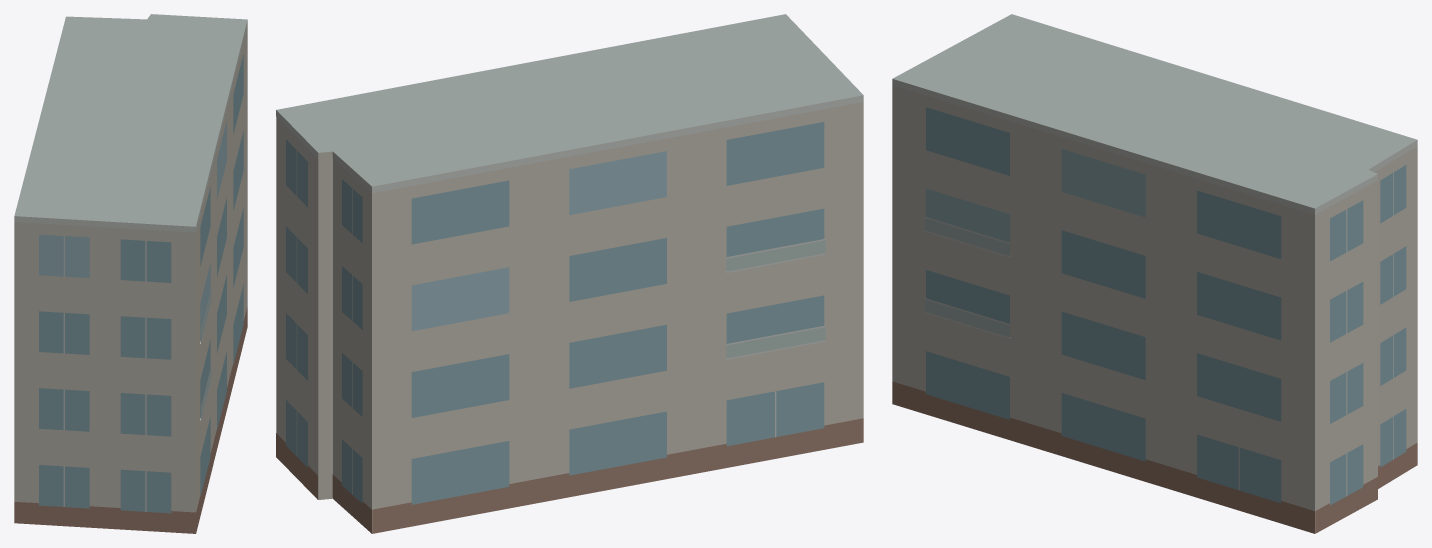
File: survey-upis-32711087.glb
3 renders of one model, left to right at view 1: azimuth 30°, elevation 25°; view 2: azimuth 150°, elevation 25°; view 3: azimuth 270°, elevation 25°, orthographic. The views are drawn at different scales.
Visible parts, largest first — view 1: survey-upis-32711087.tmp; view 2: survey-upis-32711087.tmp; view 3: survey-upis-32711087.tmp.
Part boxes in pixels (x1,y1,x2,y2): survey-upis-32711087.tmp: (14, 14, 247, 533); survey-upis-32711087.tmp: (276, 14, 863, 533); survey-upis-32711087.tmp: (892, 14, 1417, 533).
Bounding box in the file's own units: 16.43 × 12.8 × 18.74.
